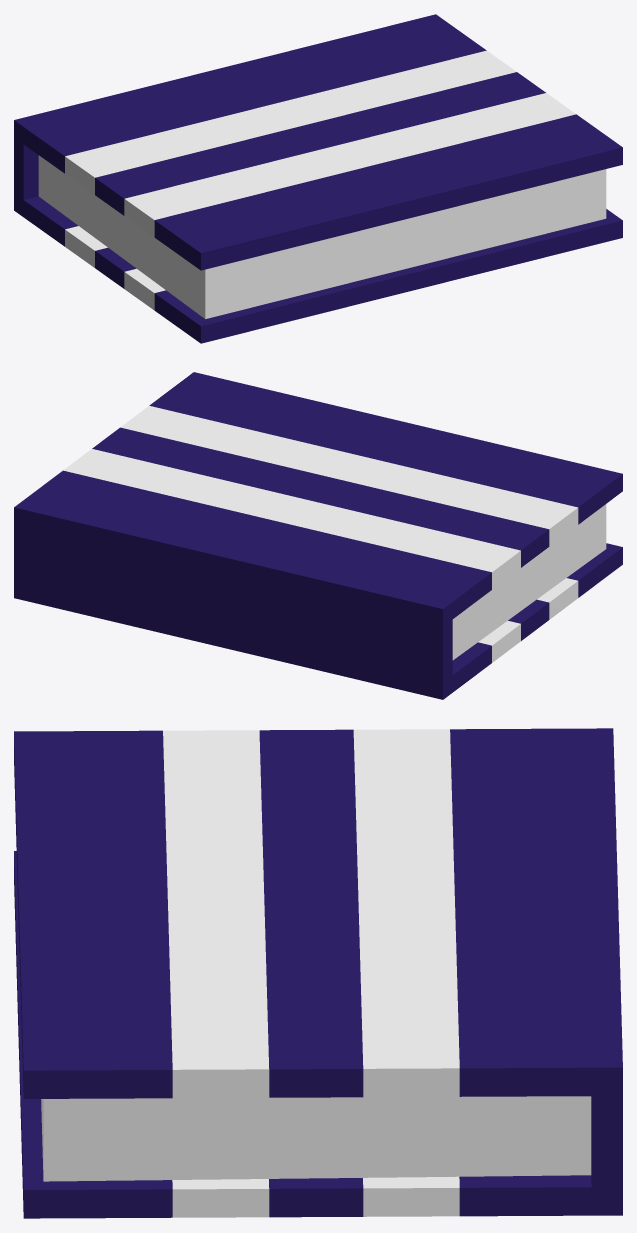
File: Book_9.fbx
3 renders of one model, top to bottom at view 1: azimuth 30°, elevation 25°; view 2: azimuth 150°, elevation 25°; view 3: azimuth 270°, elevation 25°, orthographic. The views are drawn at different scales.
Parts seen in each view (by area): view 1: Book_9; view 2: Book_9; view 3: Book_9.
Boxes of the visible parts, bbox=[...] form: Book_9: bbox=[14, 14, 622, 343]; Book_9: bbox=[14, 372, 622, 699]; Book_9: bbox=[14, 728, 622, 1218].
Bounding box in the file's own units: 0.2293 × 0.0462 × 0.1725.
